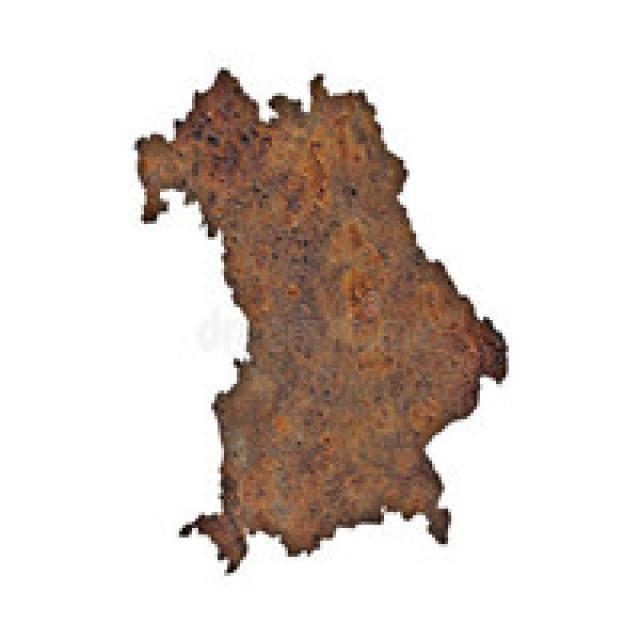Corrosion: (136, 70, 508, 570)
